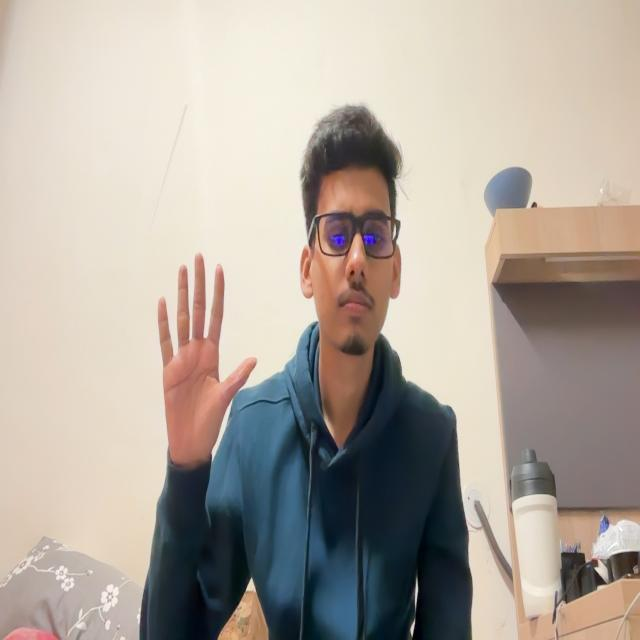Hello: (135, 249, 278, 478)
